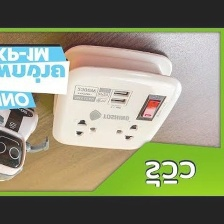three_eye_plug: (44, 40, 183, 159)
